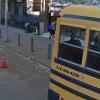Bus: (45, 4, 100, 100)
